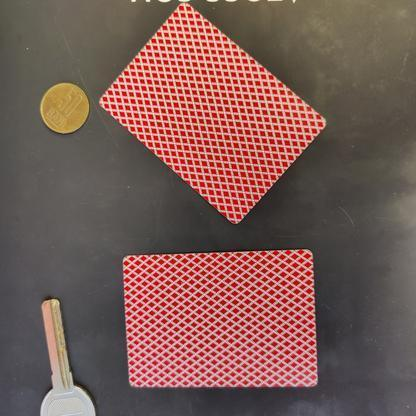card: (93, 2, 332, 227), (113, 243, 327, 398)
